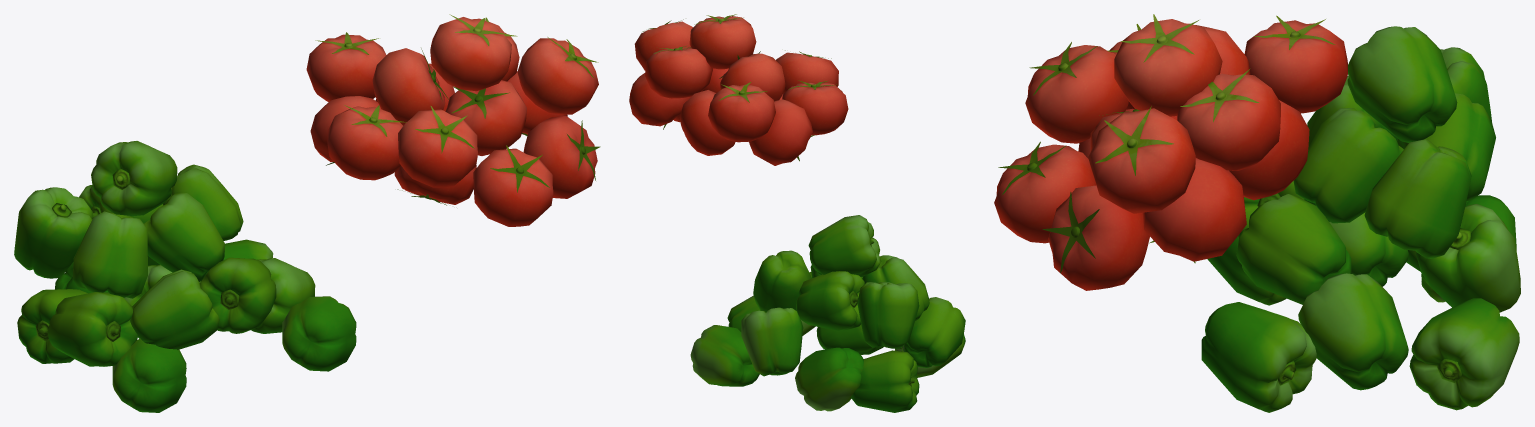
The model's file is JapaneseRestaurant_Vegetables.fbx.
The picture shows the model from 3 angles, left to right: view 1: azimuth 30°, elevation 25°; view 2: azimuth 150°, elevation 25°; view 3: azimuth 270°, elevation 25°; orthographic projection. The views are drawn at different scales.
Visible parts, largest first — view 1: JapaneseRestaurant_Vegetables; view 2: JapaneseRestaurant_Vegetables; view 3: JapaneseRestaurant_Vegetables.
Boxes of the visible parts, box(x1,y1,x2,y2) form: JapaneseRestaurant_Vegetables: box(14, 14, 600, 412); JapaneseRestaurant_Vegetables: box(629, 14, 965, 412); JapaneseRestaurant_Vegetables: box(994, 14, 1520, 412).
Size of the model in its own units: 78.79 by 56.34 by 59.52.
